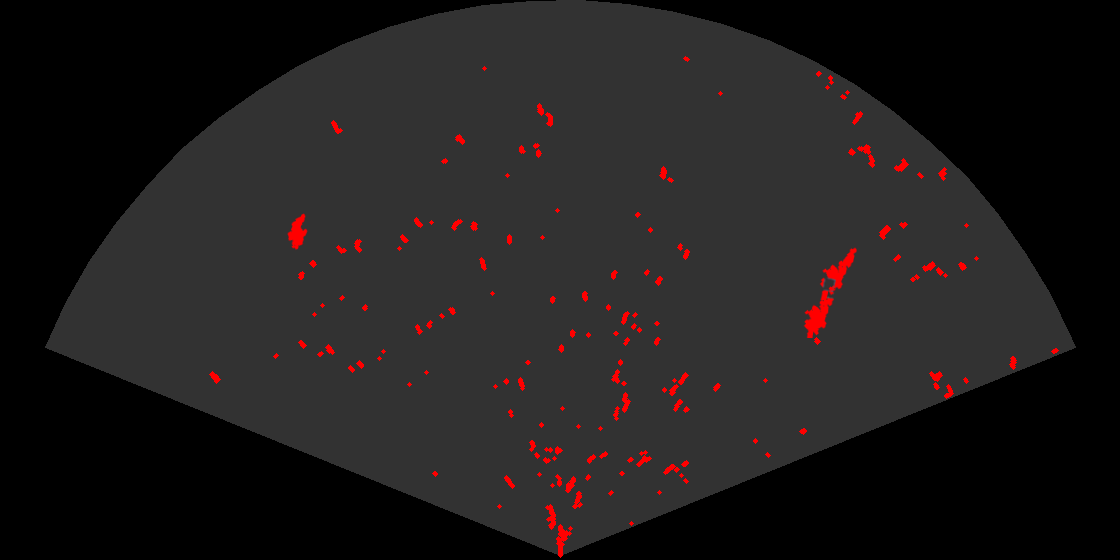AUV: (286, 212, 309, 252)
frogman: (818, 246, 858, 300), (802, 283, 837, 338)
